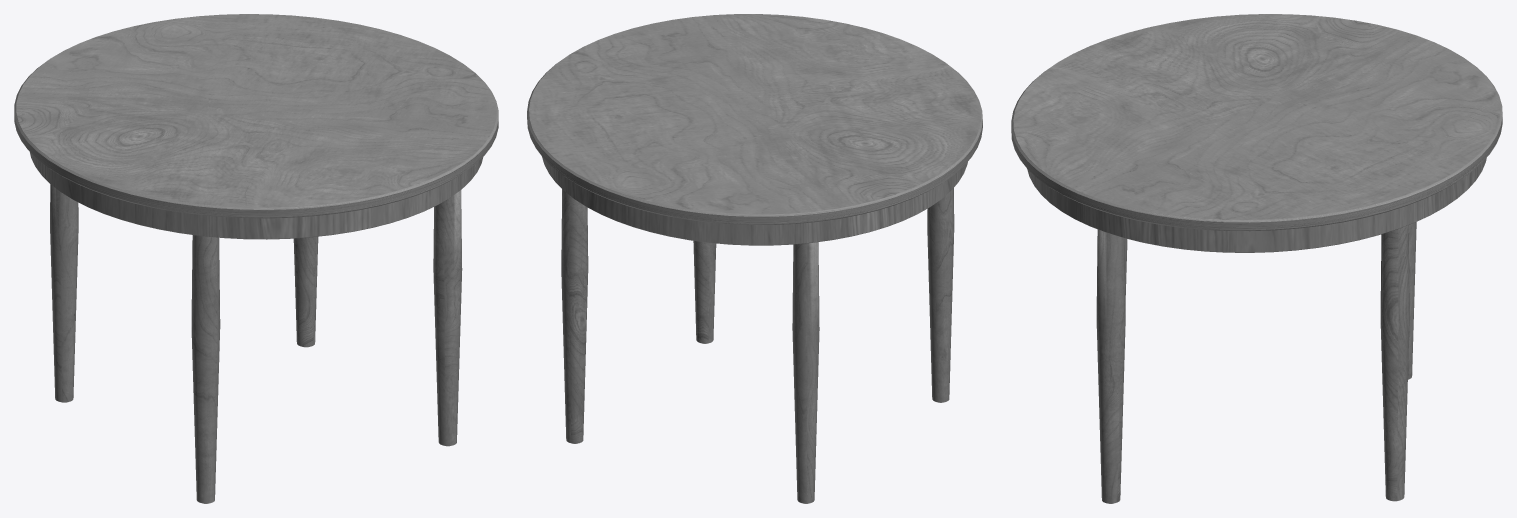
Rendered from TavoloT.fbx.
3 views of the same model, side by side, from view 1: azimuth 30°, elevation 25°; view 2: azimuth 150°, elevation 25°; view 3: azimuth 270°, elevation 25° (orthographic). The views are drawn at different scales.
Parts seen in each view (by area): view 1: TavoloSup.003; view 2: TavoloSup.003; view 3: TavoloSup.003.
Boxes of the visible parts, left/top/right/bottom form: TavoloSup.003: left=14, top=14, right=498, bottom=503; TavoloSup.003: left=527, top=14, right=982, bottom=503; TavoloSup.003: left=1011, top=14, right=1502, bottom=503.
Bounding box in the file's own units: 179 × 130 × 179.
5 materials, 5 textured.
